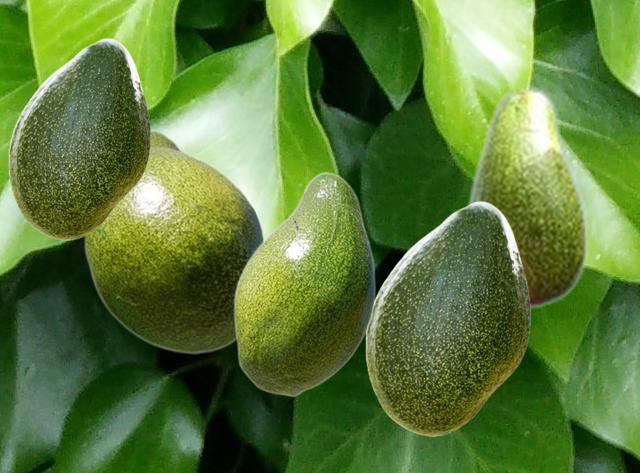avocado: (83, 129, 264, 354), (365, 201, 529, 435), (233, 171, 375, 396), (8, 38, 149, 239), (466, 85, 588, 310)
